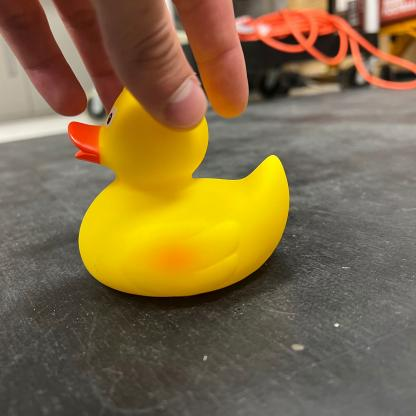duck: (67, 79, 292, 303)
